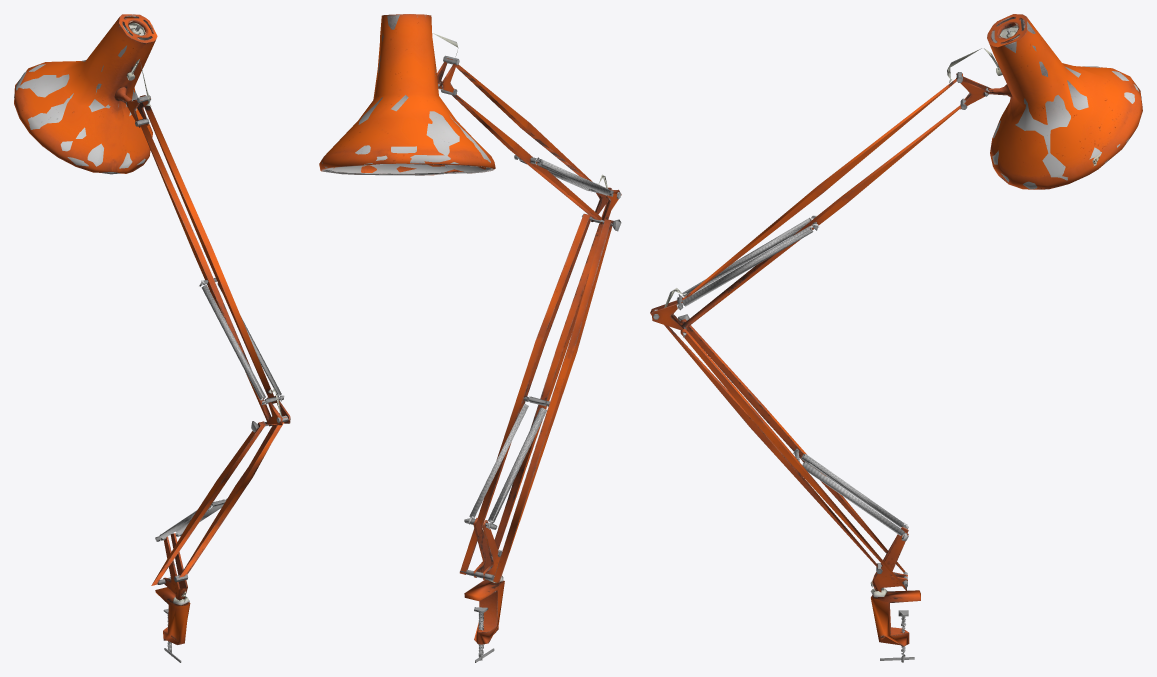
File: floor-lamp.glb
3 views of the same model, side by side, from view 1: azimuth 30°, elevation 25°; view 2: azimuth 150°, elevation 25°; view 3: azimuth 270°, elevation 25° (orthographic). The views are drawn at different scales.
Parts seen in each view (by area): view 1: desk_lamp_arm_01; view 2: desk_lamp_arm_01; view 3: desk_lamp_arm_01.
Part boxes in pixels (x1,y1,x2,y2): desk_lamp_arm_01: (14,14,290,662); desk_lamp_arm_01: (319,14,621,662); desk_lamp_arm_01: (650,14,1142,662).
Bounding box in the file's own units: 0.327 × 1.45 × 0.9961.
2 materials, 2 textured.
